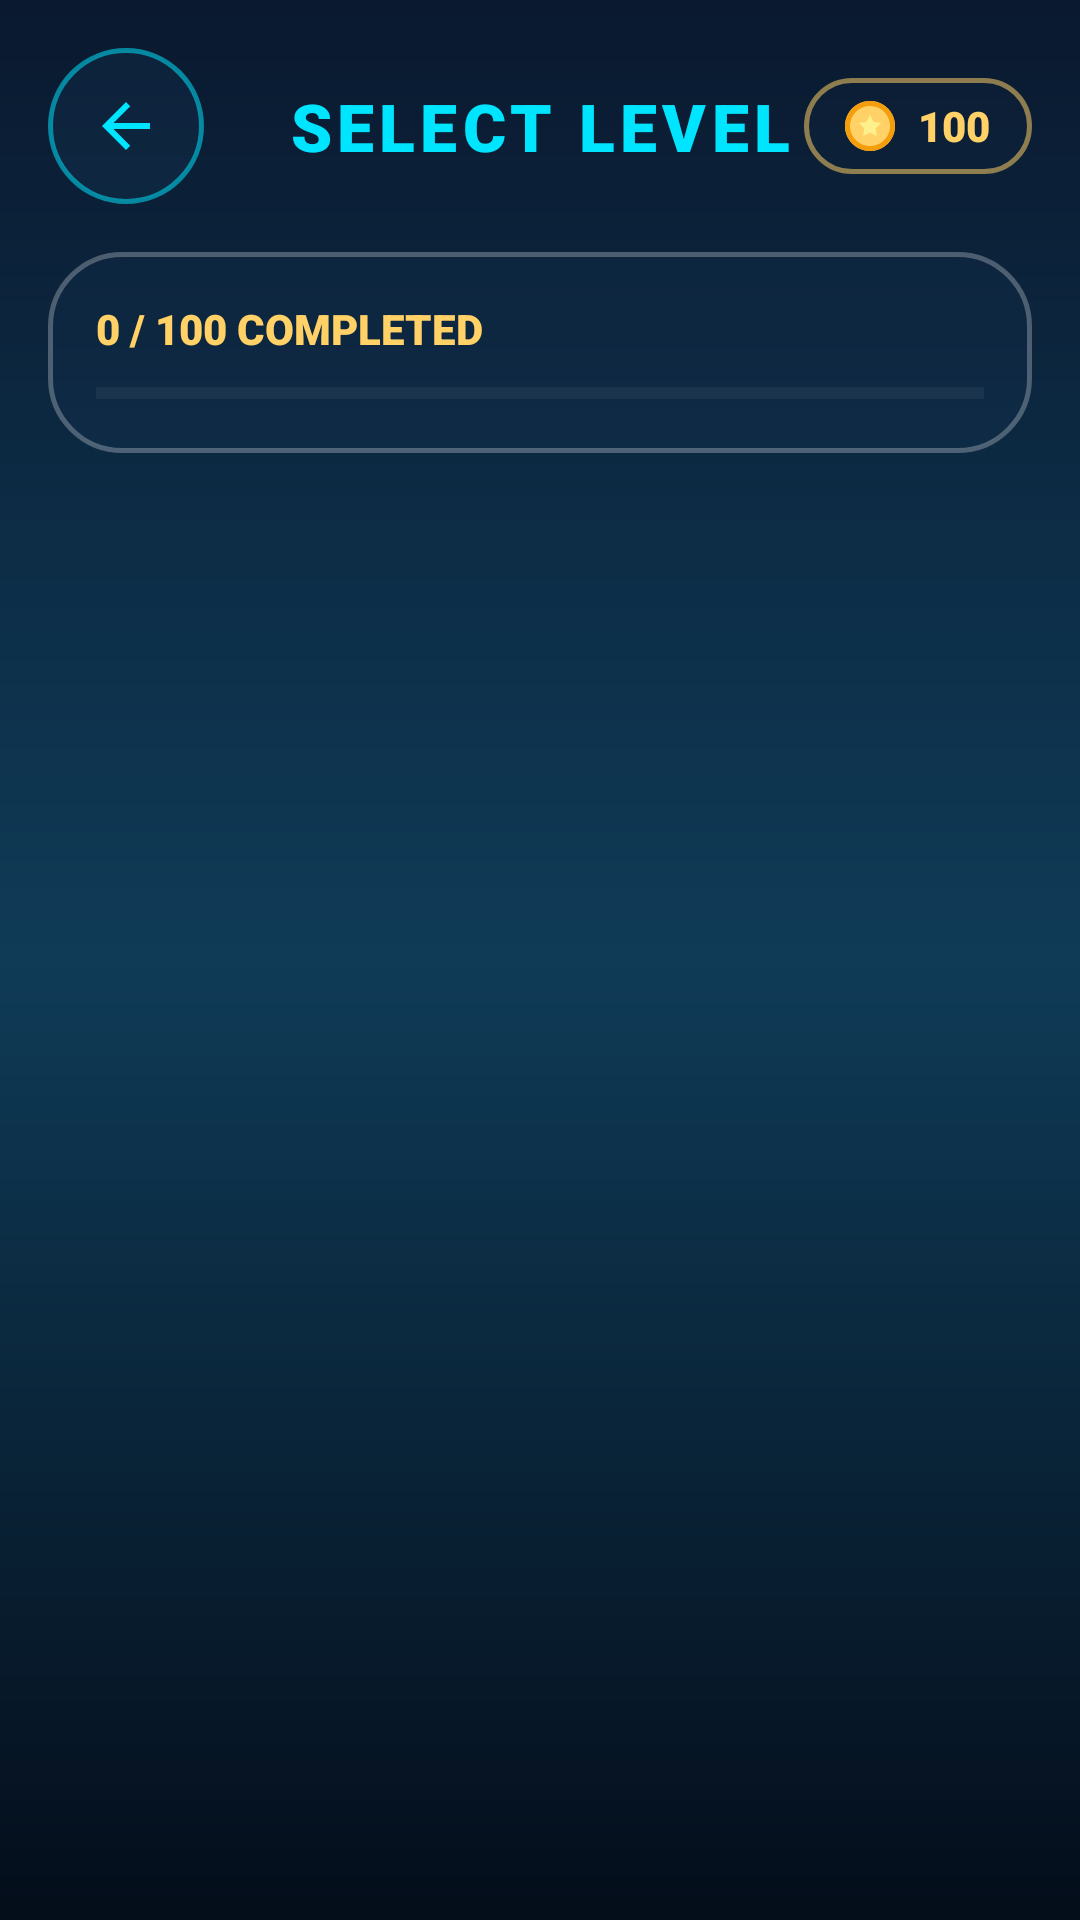

Icon bounding boxes for this 1080x1920 phone screenshot, format [x1=x1, y1=y1, x2=x2, y2=y2]:
Coins: [x1=845, y1=101, x2=895, y2=151]
